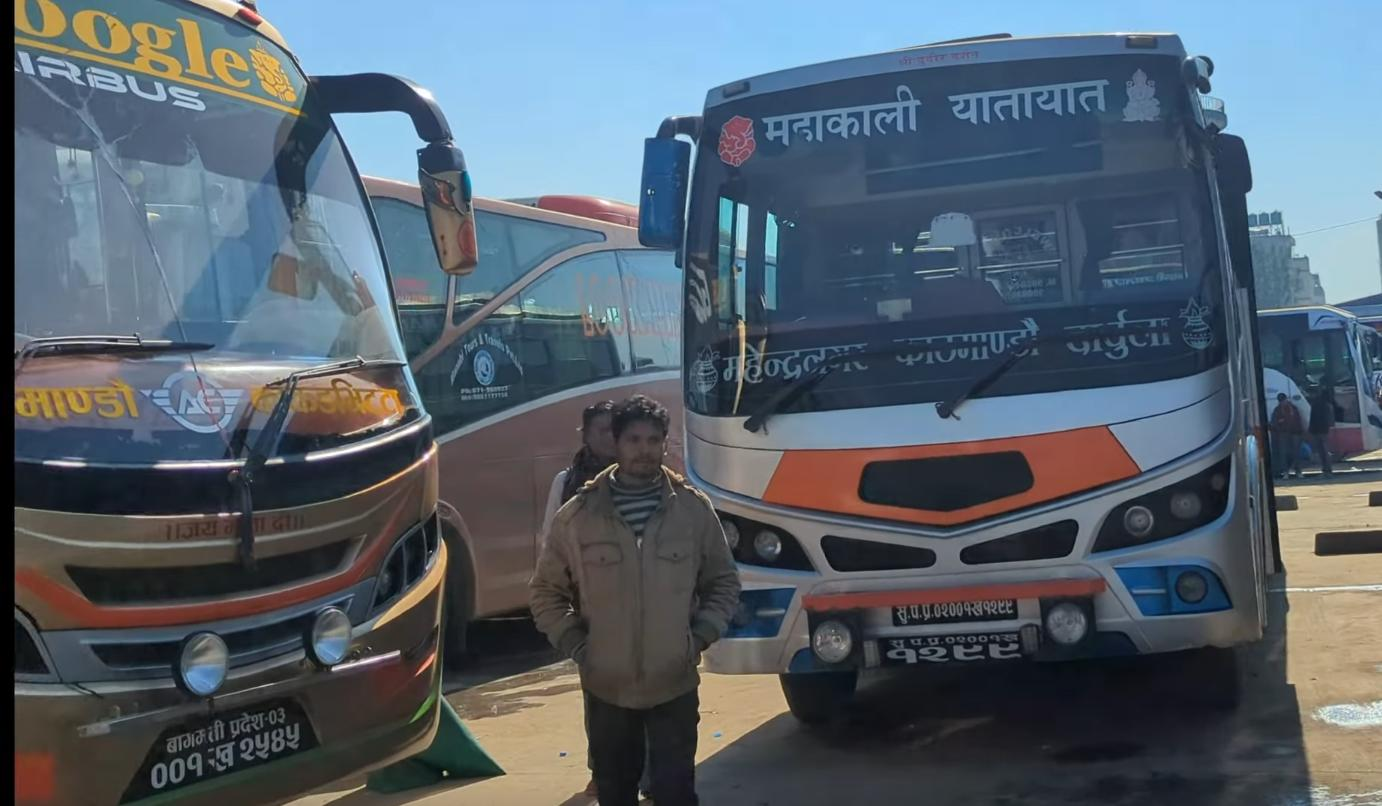bus: (650, 8, 1300, 716), (0, 0, 488, 806)
